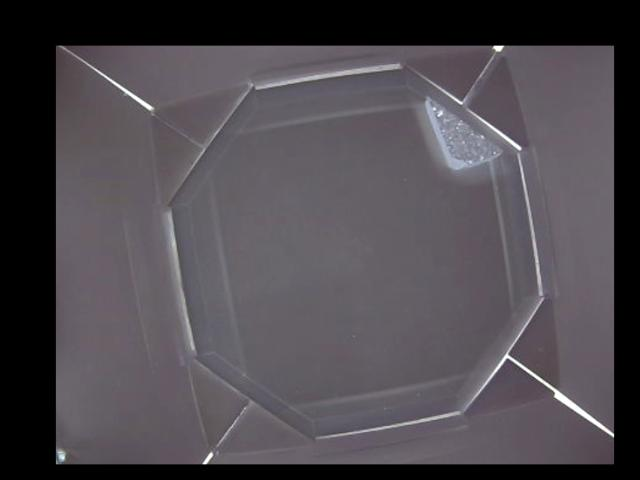China: (427, 97, 501, 166)
